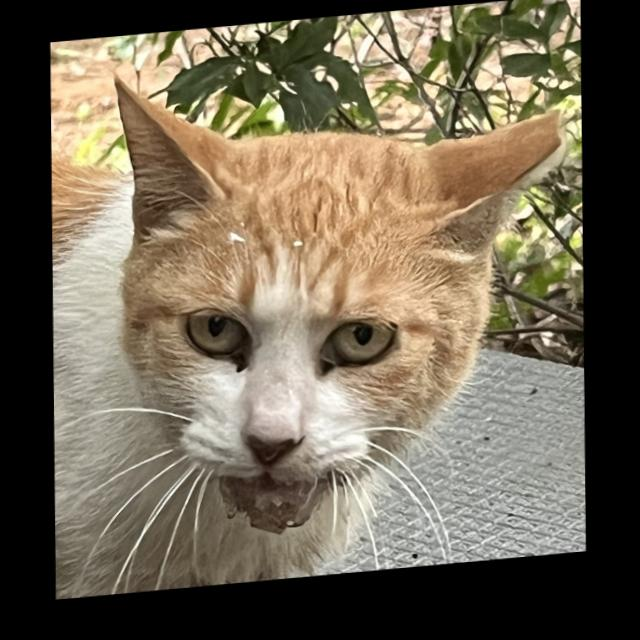animals: (90, 29, 574, 556)
